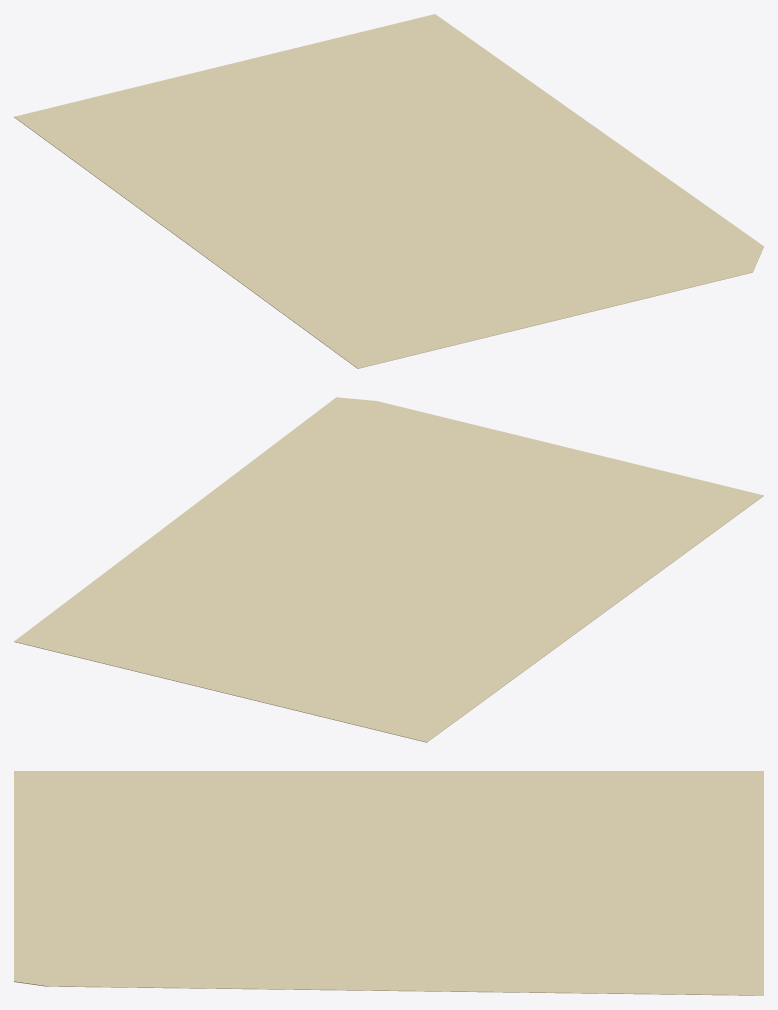
The model's file is DocumentSheet.fbx.
3 views of the same model, one above another, from view 1: azimuth 30°, elevation 25°; view 2: azimuth 150°, elevation 25°; view 3: azimuth 270°, elevation 25° (orthographic). The views are drawn at different scales.
Parts seen in each view (by area): view 1: Sheet; view 2: Sheet; view 3: Sheet.
Boxes of the visible parts, x1=… form: Sheet: x1=14, y1=14, x2=763, y2=368; Sheet: x1=14, y1=397, x2=763, y2=742; Sheet: x1=14, y1=771, x2=763, y2=995.
Bounding box in the file's own units: 0.21 × 0.00424 × 0.297.
